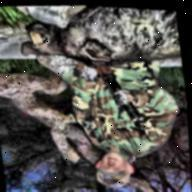boar: (16, 2, 186, 101)
